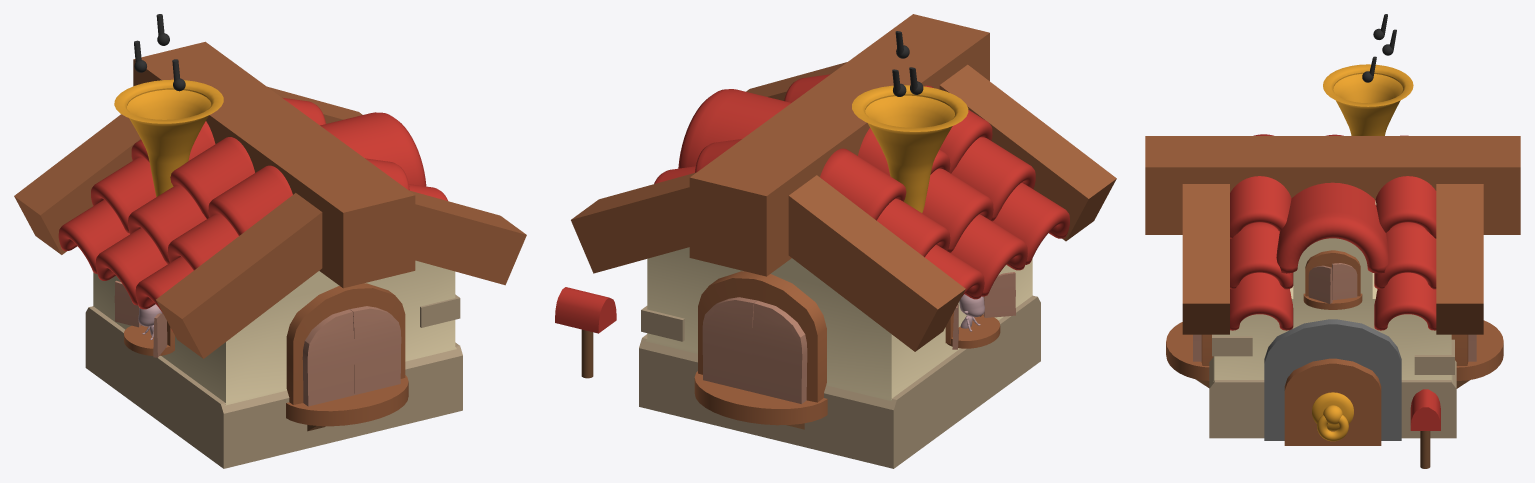
The model's file is CasitaPruebaUnity.fbx.
3 renders of one model, left to right at view 1: azimuth 30°, elevation 25°; view 2: azimuth 150°, elevation 25°; view 3: azimuth 270°, elevation 25°, orthographic. The views are drawn at different scales.
Parts seen in each view (by area): view 1: Cube, Cube.005, Cube.007, Plane, Cube.001, Cube.006, Circle.005, Plane.008, Plane.007, Plane.006, Torus, Torus.014 (+15 smaller); view 2: Cube, Cube.005, Cube.006, Plane, Cube.007, Cube.002, Circle.005, Plane.009, Plane.010, Plane.011, Torus, Circle.003 (+16 smaller); view 3: Cube, Plane, Plane.001, Cube.001, Cube.002, Torus, Plane.002, Cube.005, Circle.005, Torus.006, Torus.001, Torus.004 (+16 smaller).
Boxes of the visible parts, <box> form: Cube: <box>133,41,415,288</box>; Cube.005: <box>85,306,462,468</box>; Cube.007: <box>156,193,322,358</box>; Plane: <box>93,260,456,405</box>; Cube.001: <box>409,190,526,285</box>; Cube.006: <box>14,114,140,254</box>; Circle.005: <box>114,79,223,196</box>; Plane.008: <box>286,283,405,404</box>; Plane.007: <box>302,309,354,406</box>; Plane.006: <box>349,306,401,395</box>; Torus: <box>320,112,426,186</box>; Torus.014: <box>170,137,254,218</box>; Cube: <box>689,14,989,276</box>; Cube.005: <box>639,295,1040,468</box>; Cube.006: <box>788,175,965,351</box>; Plane: <box>645,247,1032,401</box>; Cube.007: <box>939,64,1116,241</box>; Cube.002: <box>571,172,696,273</box>; Circle.005: <box>852,85,968,212</box>; Plane.009: <box>698,271,826,402</box>; Plane.010: <box>752,300,807,403</box>; Plane.011: <box>702,297,757,391</box>; Torus: <box>678,89,790,168</box>; Circle.003: <box>694,371,827,425</box>; Cube: <box>1145,136,1520,234</box>; Plane: <box>1213,200,1452,381</box>; Plane.001: <box>1264,319,1401,440</box>; Cube.001: <box>1182,184,1229,334</box>; Cube.002: <box>1436,184,1483,334</box>; Torus: <box>1276,182,1388,273</box>; Plane.002: <box>1284,358,1381,445</box>; Cube.005: <box>1209,357,1456,438</box>; Circle.005: <box>1323,64,1413,135</box>; Torus.006: <box>1375,176,1436,238</box>; Torus.001: <box>1230,176,1291,238</box>; Torus.004: <box>1374,222,1436,289</box>.
Bounding box in the file's own units: 682 × 634 × 646.
